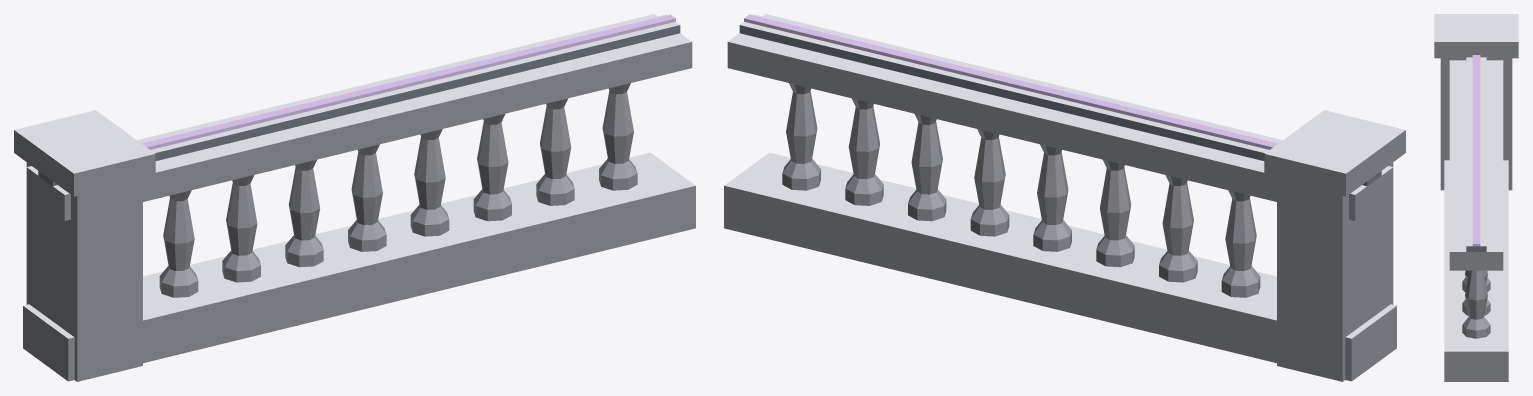
The model's file is PR_Balaustrada_Suspensa.fbx.
The picture shows the model from 3 angles, left to right: view 1: azimuth 30°, elevation 25°; view 2: azimuth 150°, elevation 25°; view 3: azimuth 270°, elevation 25°; orthographic projection. The views are drawn at different scales.
Parts seen in each view (by area): view 1: PR_Balaustrada_Suspensa; view 2: PR_Balaustrada_Suspensa; view 3: PR_Balaustrada_Suspensa.
Part boxes in pixels (bbox=[...]): PR_Balaustrada_Suspensa: bbox=[14, 14, 695, 381]; PR_Balaustrada_Suspensa: bbox=[724, 14, 1405, 381]; PR_Balaustrada_Suspensa: bbox=[1434, 14, 1518, 381].
Size of the model in its own units: 4.01 by 1.3 by 0.66.
